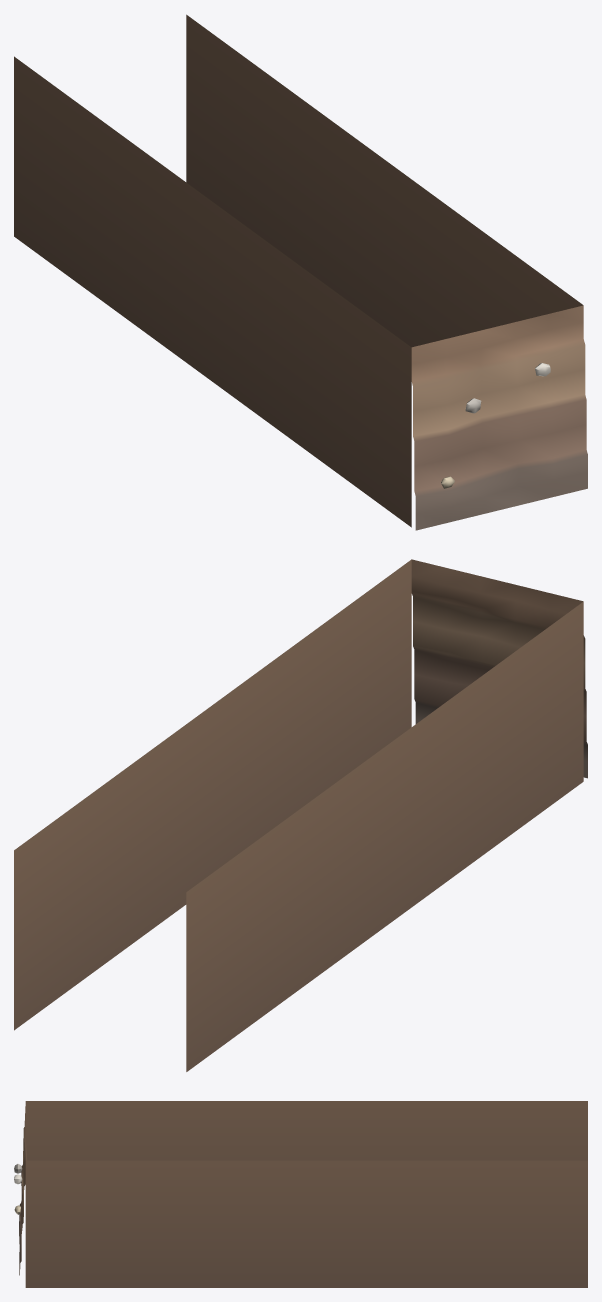
File: groundlite_earth_0.glb
3 views of the same model, one above another, from view 1: azimuth 30°, elevation 25°; view 2: azimuth 150°, elevation 25°; view 3: azimuth 270°, elevation 25° (orthographic). The views are drawn at different scales.
Visible parts, largest first — view 1: groundlite_earth_0; view 2: groundlite_earth_0; view 3: groundlite_earth_0.
Part boxes in pixels (left/top/right/bottom): groundlite_earth_0: left=14, top=14, right=587, bottom=530; groundlite_earth_0: left=14, top=559, right=587, bottom=1071; groundlite_earth_0: left=14, top=1101, right=587, bottom=1287.
Bounding box in the file's own units: 1 × 1 × 4.08.
